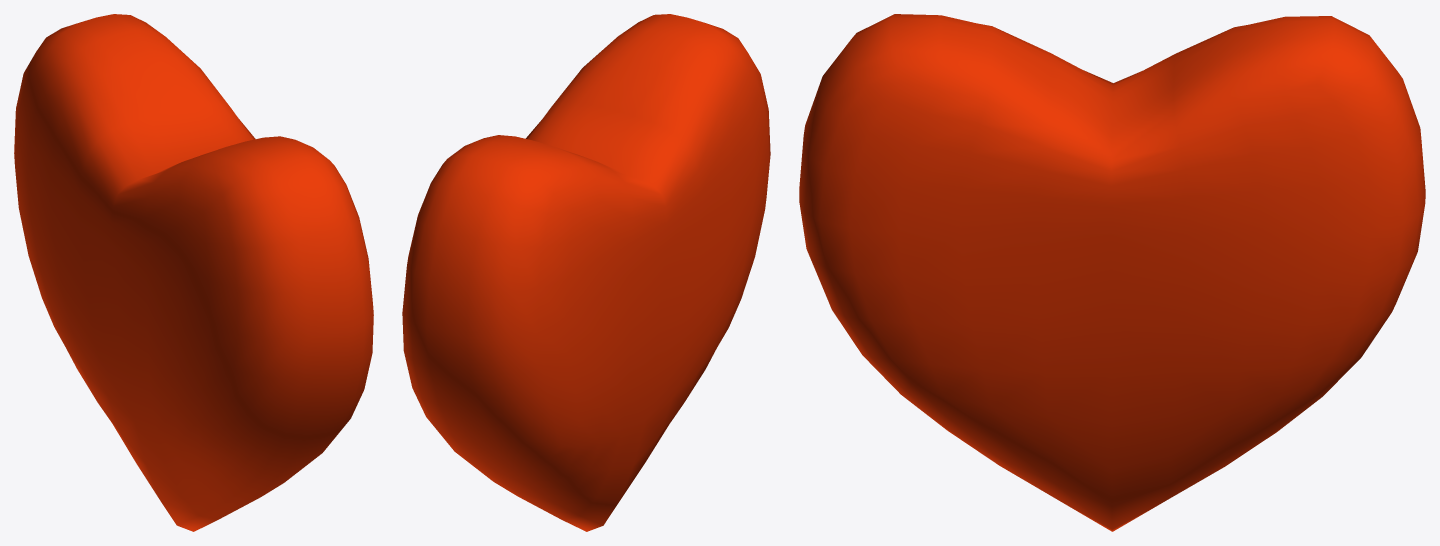
The model's file is heart.glb.
3 views of the same model, side by side, from view 1: azimuth 30°, elevation 25°; view 2: azimuth 150°, elevation 25°; view 3: azimuth 270°, elevation 25° (orthographic). The views are drawn at different scales.
Visible parts, largest first — view 1: Cube.001; view 2: Cube.001; view 3: Cube.001.
Part boxes in pixels (x1,y1,x2,y2): Cube.001: [14, 14, 373, 531]; Cube.001: [402, 14, 770, 531]; Cube.001: [799, 14, 1425, 531].
Size of the model in its own units: 0.046 by 0.1196 by 0.1348.
